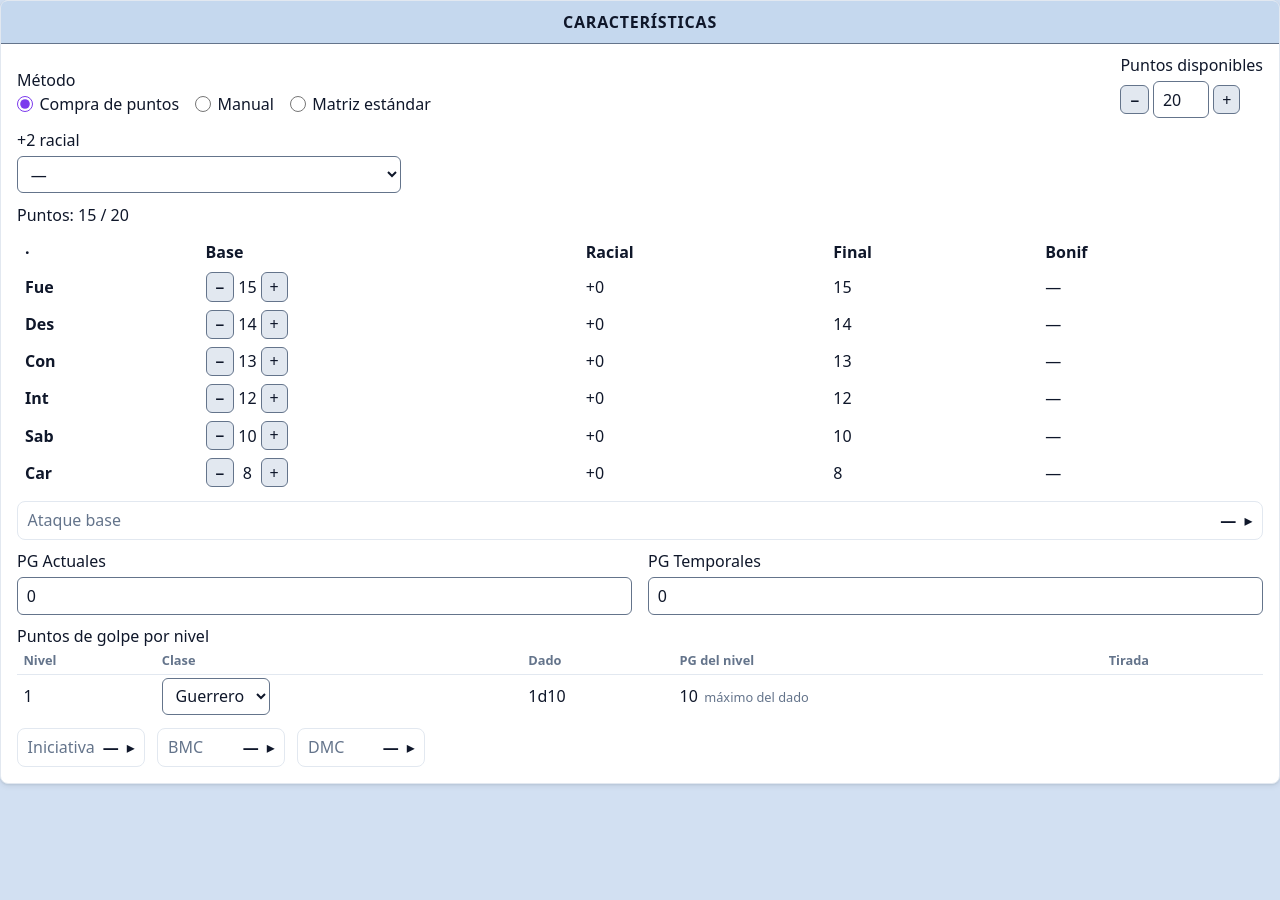
Test: AbilitiesSection › adjusts the budget with the steppers and direct entry
Expected: the text "Puntos: 15 / 20" is shown, 17,204 -> 129,226
Click the button named "Subir puntos disponibles" at (1227, 100), box 1213,85 -> 1240,114
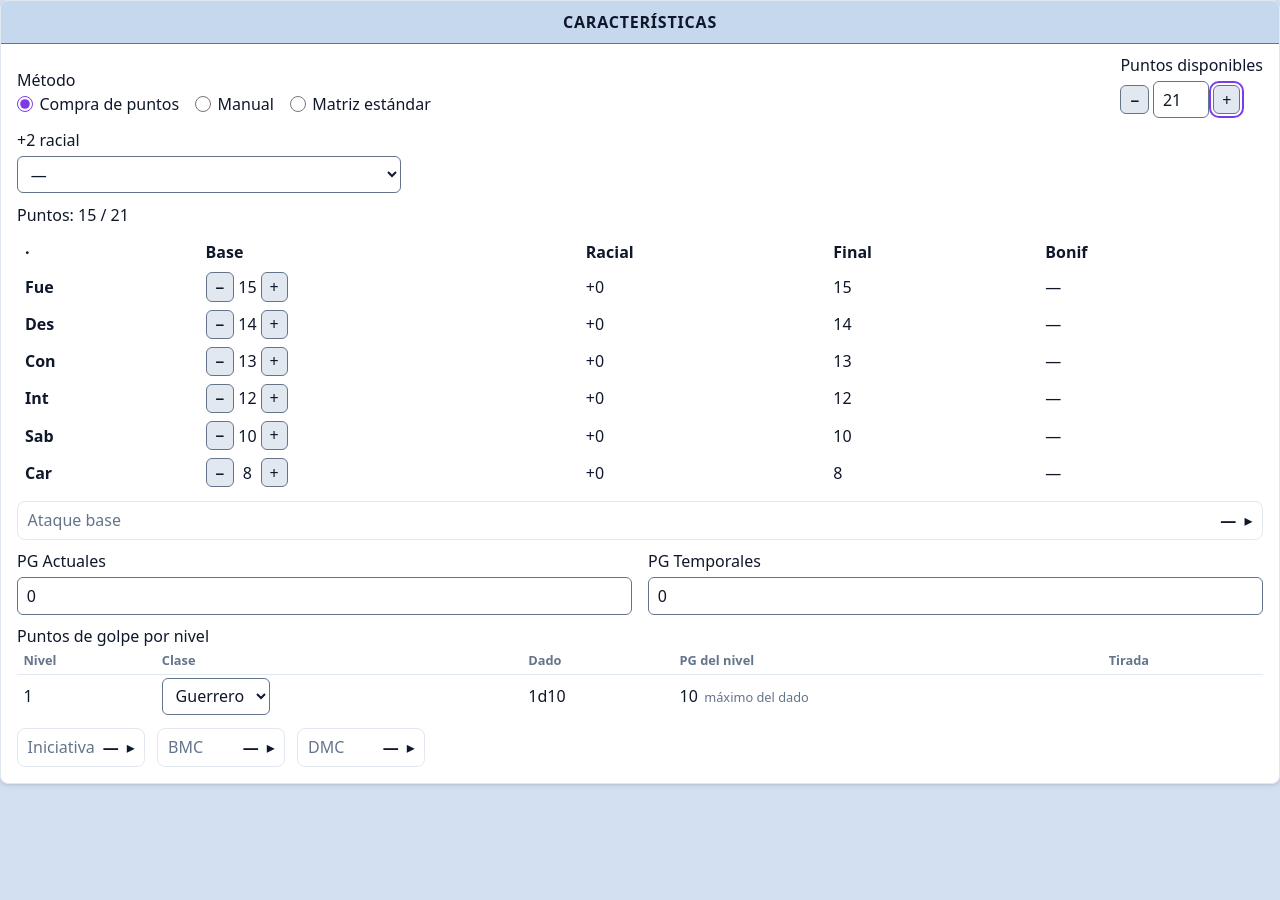
Expected: the text "Puntos: 15 / 21" is shown, 17,204 -> 129,226
Click the button named "Bajar puntos disponibles" at (1135, 100), box 1120,85 -> 1149,114
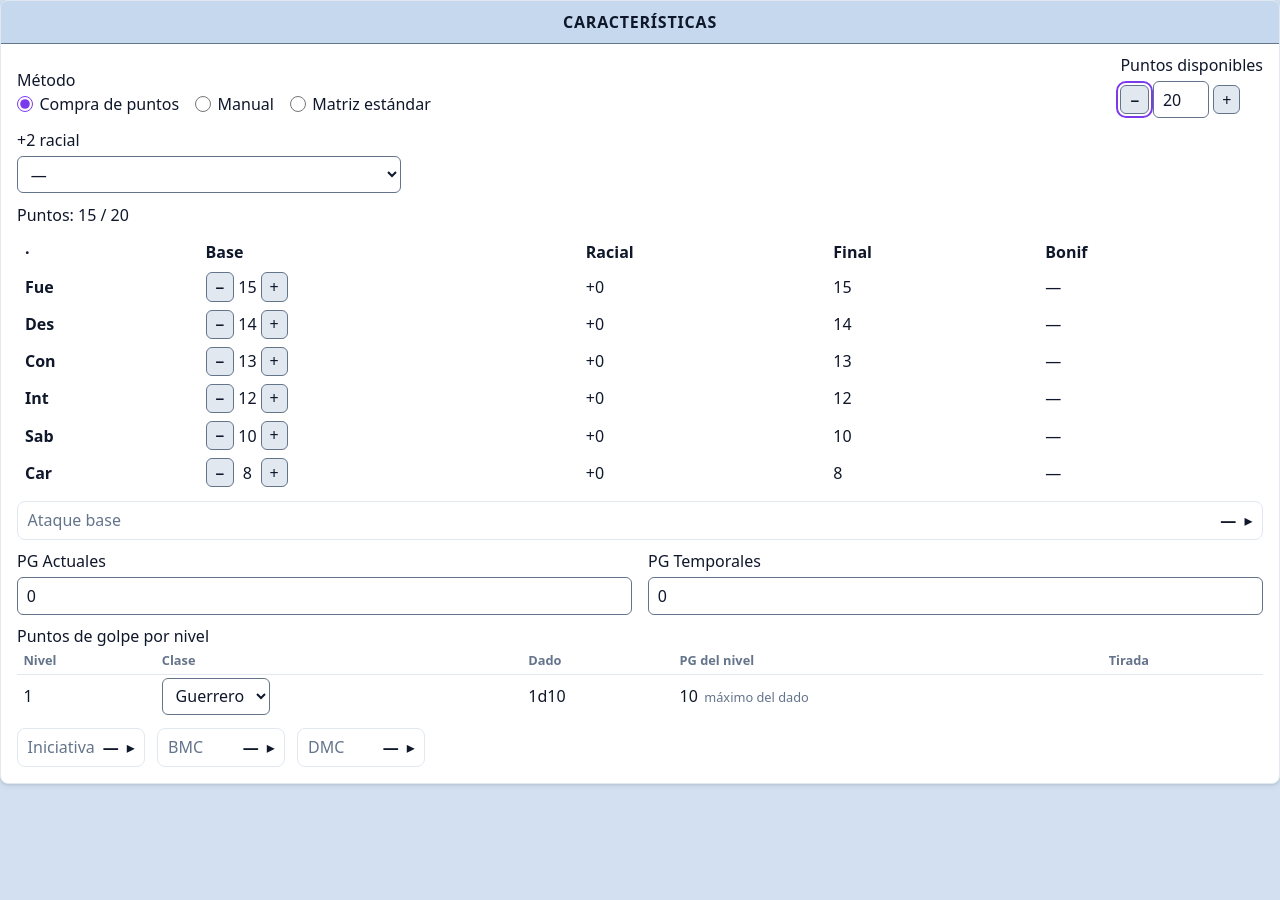
Expected: the text "Puntos: 15 / 20" is shown, 17,204 -> 129,226
Replace the text in the number field labelled "Puntos disponibles" with "25" at (1181, 100), box 1153,81 -> 1209,118
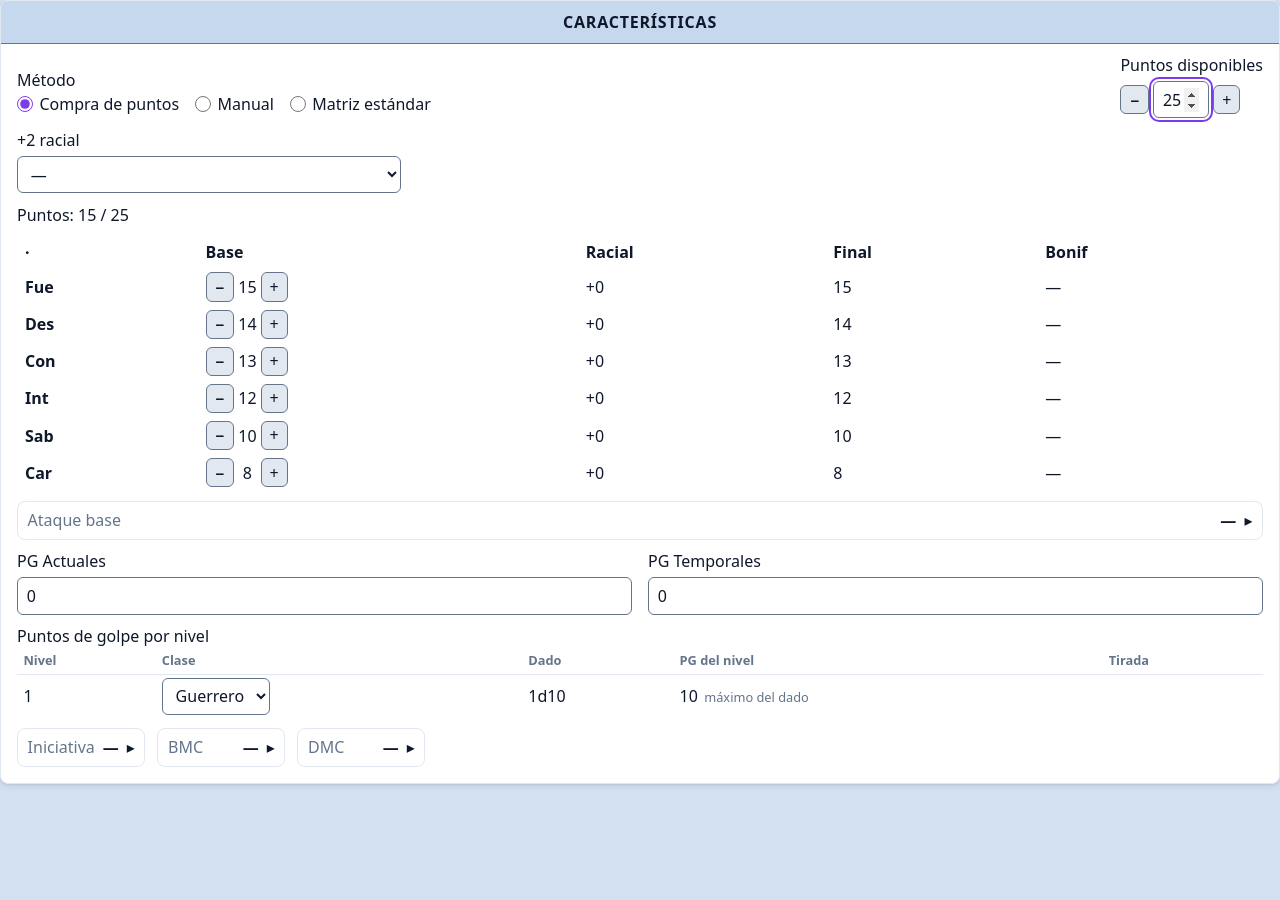
Expected: the text "Puntos: 15 / 25" is shown, 17,204 -> 129,226
